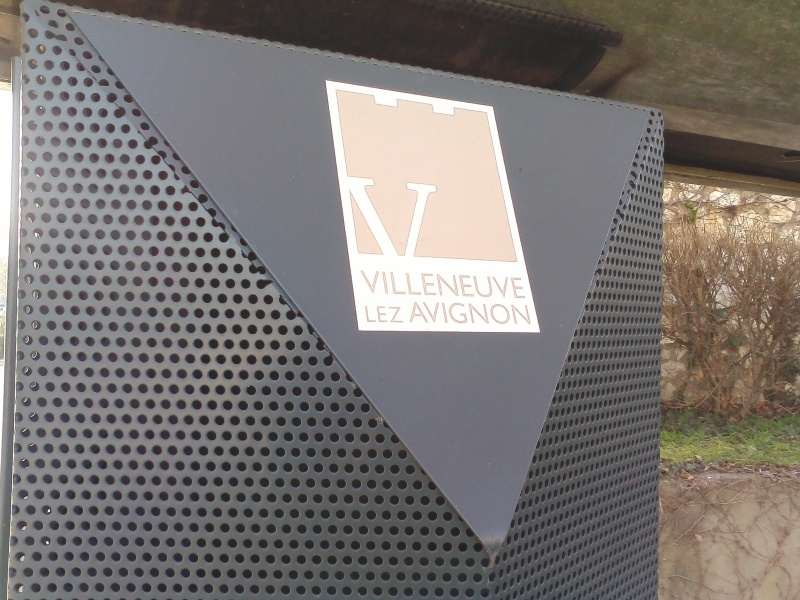text: (353, 174, 368, 262), (369, 174, 384, 262), (385, 174, 400, 262), (401, 174, 416, 262), (417, 174, 432, 262), (433, 174, 444, 262), (342, 174, 352, 262), (369, 270, 384, 300), (385, 270, 400, 300), (401, 270, 416, 300), (417, 270, 432, 300), (433, 270, 448, 300), (449, 270, 464, 300), (465, 270, 480, 300), (481, 270, 496, 300), (497, 270, 512, 300), (513, 270, 525, 300), (417, 302, 432, 326), (433, 302, 448, 326), (449, 302, 464, 326), (465, 302, 480, 326), (481, 302, 496, 326), (497, 302, 512, 326), (513, 302, 528, 326), (369, 306, 384, 324), (385, 306, 400, 324), (360, 270, 368, 300), (408, 302, 416, 326), (529, 302, 532, 326), (365, 306, 368, 324), (401, 306, 403, 324)
